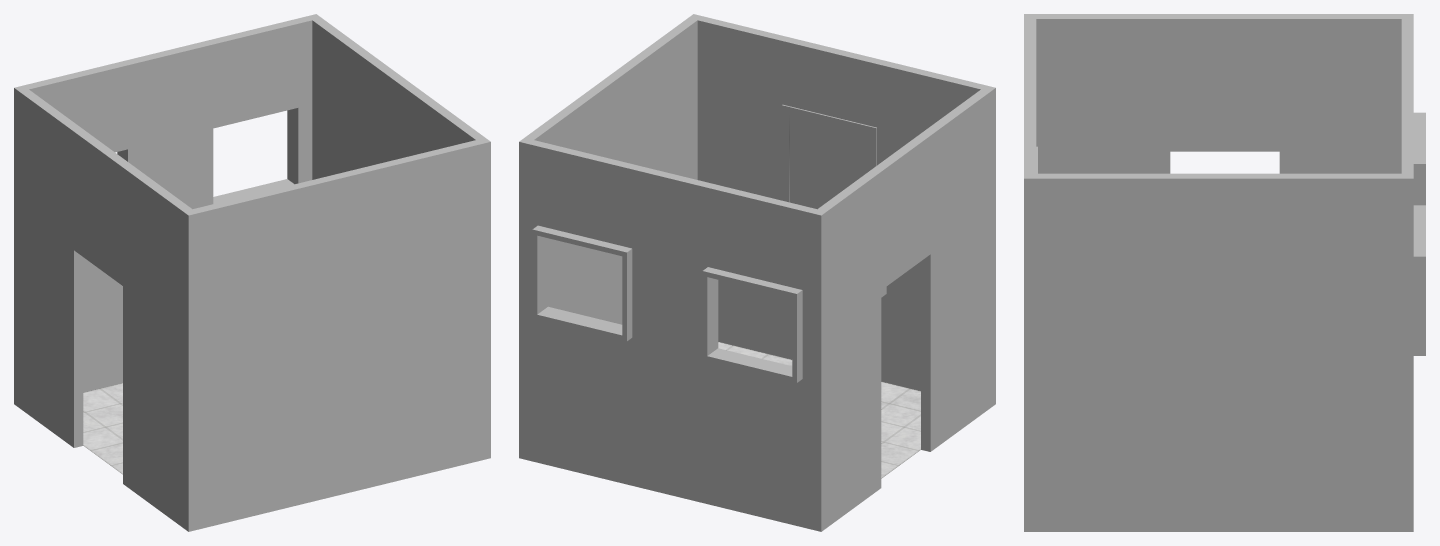
Rendered from bathroom_config_3.dae.
3 views of the same model, side by side, from view 1: azimuth 30°, elevation 25°; view 2: azimuth 150°, elevation 25°; view 3: azimuth 270°, elevation 25° (orthographic). The views are drawn at different scales.
Parts seen in each view (by area): view 1: configuration_3; view 2: configuration_3; view 3: configuration_3.
Boxes of the visible parts, bbox=[...] form: configuration_3: bbox=[14, 14, 490, 531]; configuration_3: bbox=[519, 14, 995, 531]; configuration_3: bbox=[1024, 14, 1425, 531].
Size of the model in its own units: 3.2 by 3.3 by 3.2.
